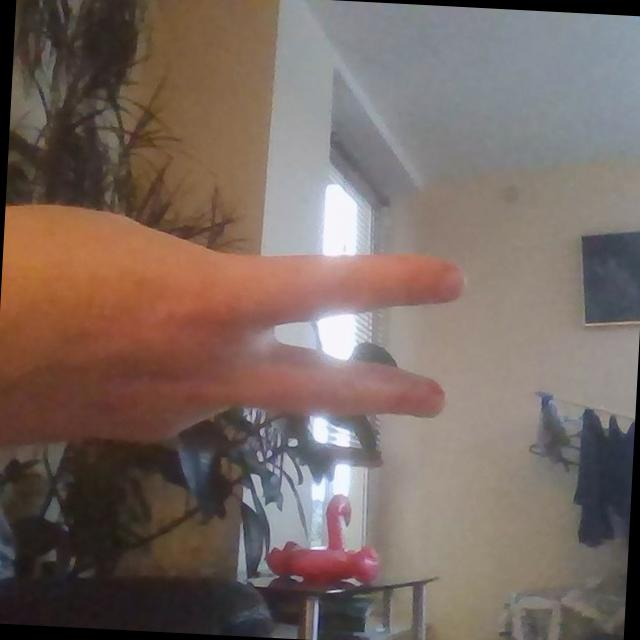scissors: (65, 203, 467, 470)
